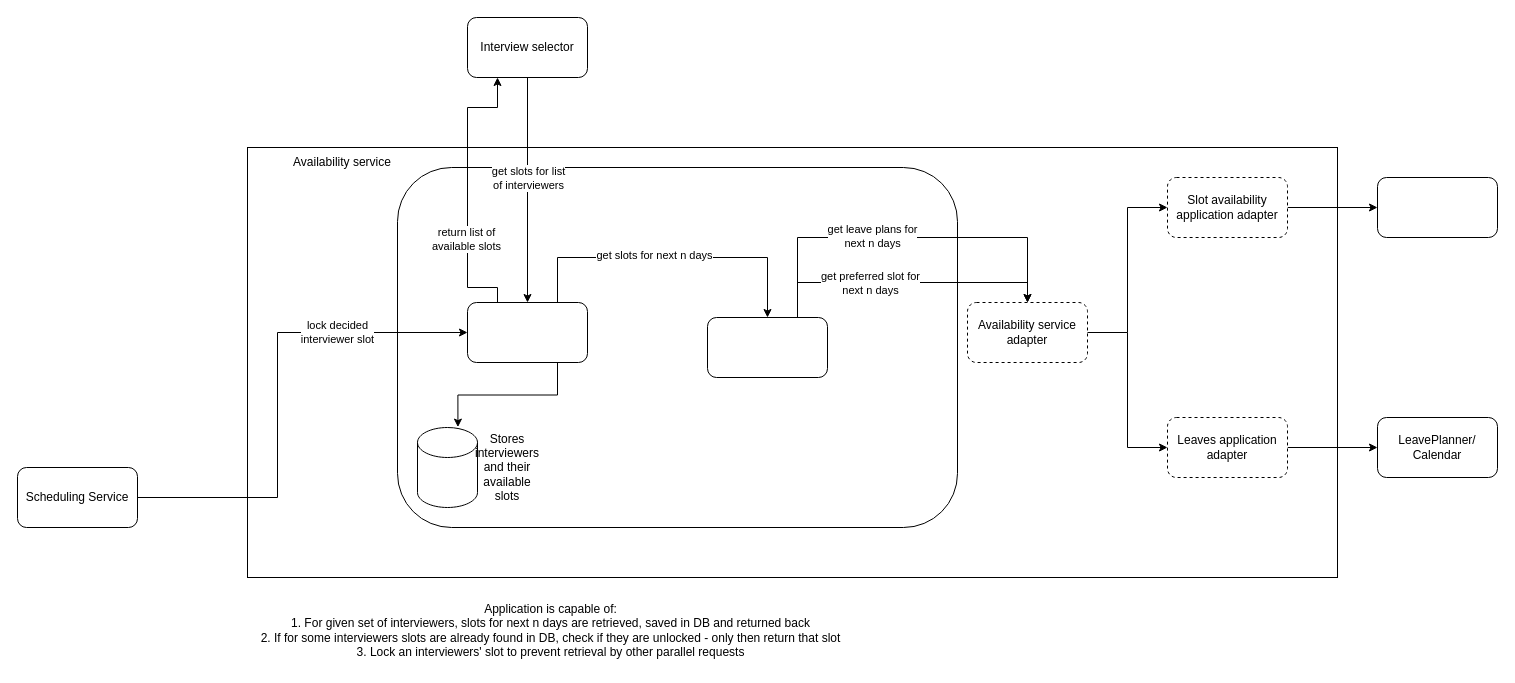
This 1515x683 diagram has some shape labels left out. Each missing label, with the box of its shape:
Application: (466, 302, 588, 362)
Availability interface: (706, 316, 828, 378)
GoodTime: (1376, 176, 1498, 238)
